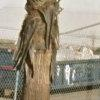Statue: (14, 1, 63, 94)
